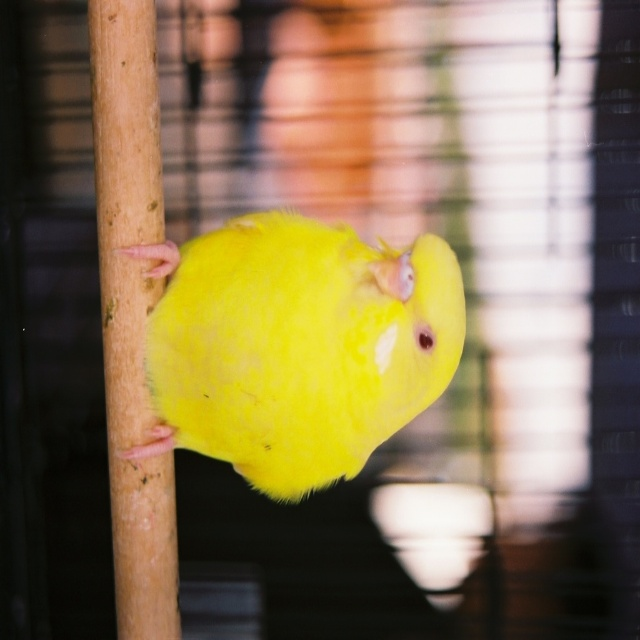Canary: (115, 196, 467, 501)
